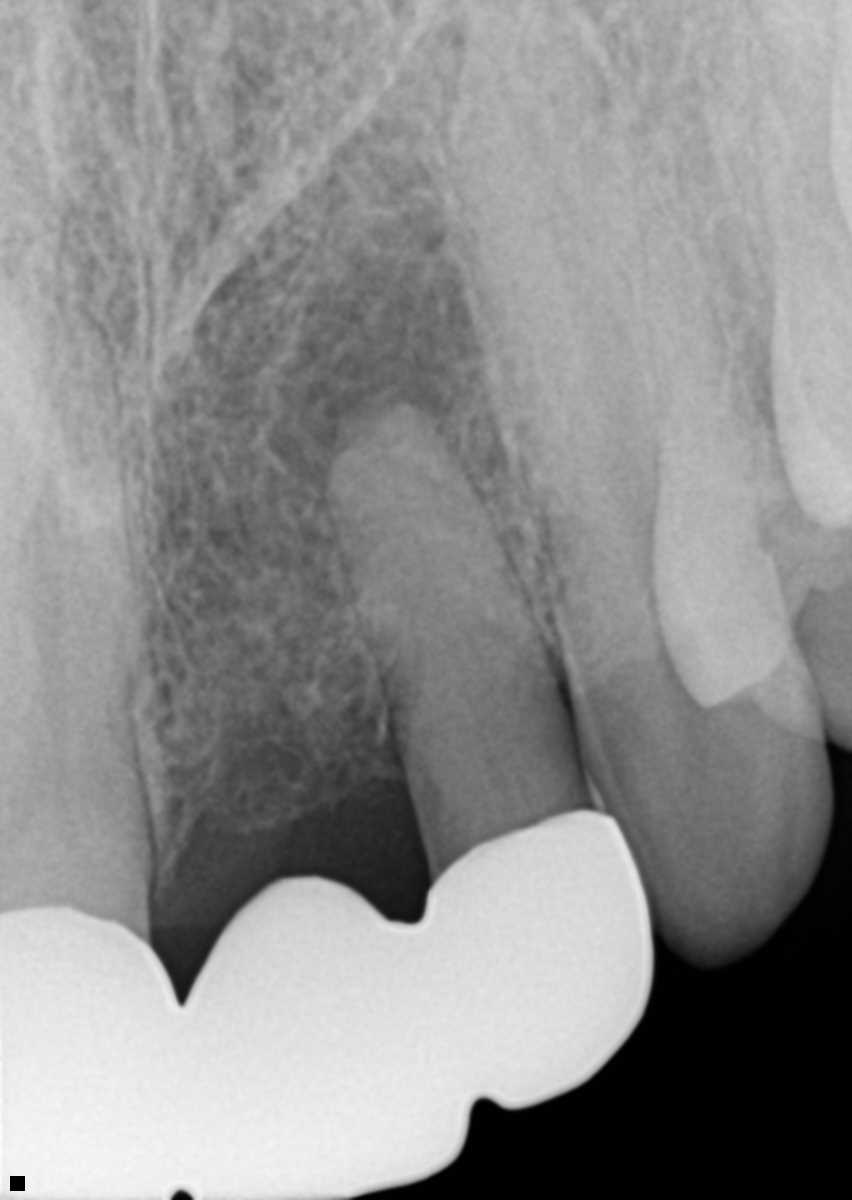Apical Lesion: (261, 201, 526, 494)
Main Root: (451, 0, 786, 676), (331, 400, 568, 783), (0, 289, 151, 862)
